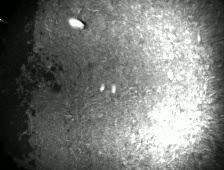corn: (65, 14, 87, 32), (97, 81, 107, 94), (109, 81, 118, 95)
